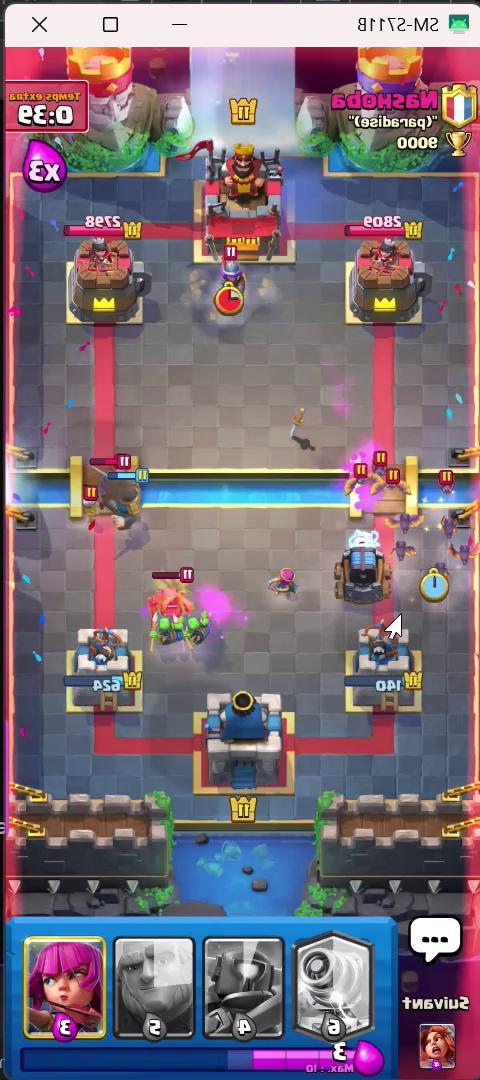0: (418, 558, 463, 594), (376, 539, 421, 570), (434, 539, 480, 568), (388, 500, 424, 537), (437, 508, 475, 537)
archere: (259, 568, 293, 608)
bat: (341, 465, 379, 500), (429, 470, 460, 509), (379, 463, 408, 497), (367, 446, 396, 480)
chevalier: (107, 479, 150, 535)
gobelin_lances: (137, 613, 189, 648), (184, 604, 222, 644)
mini_PEKKA: (144, 580, 197, 623)
mousquetaire: (202, 252, 261, 317), (93, 468, 129, 518)
squelette: (73, 494, 103, 515)
